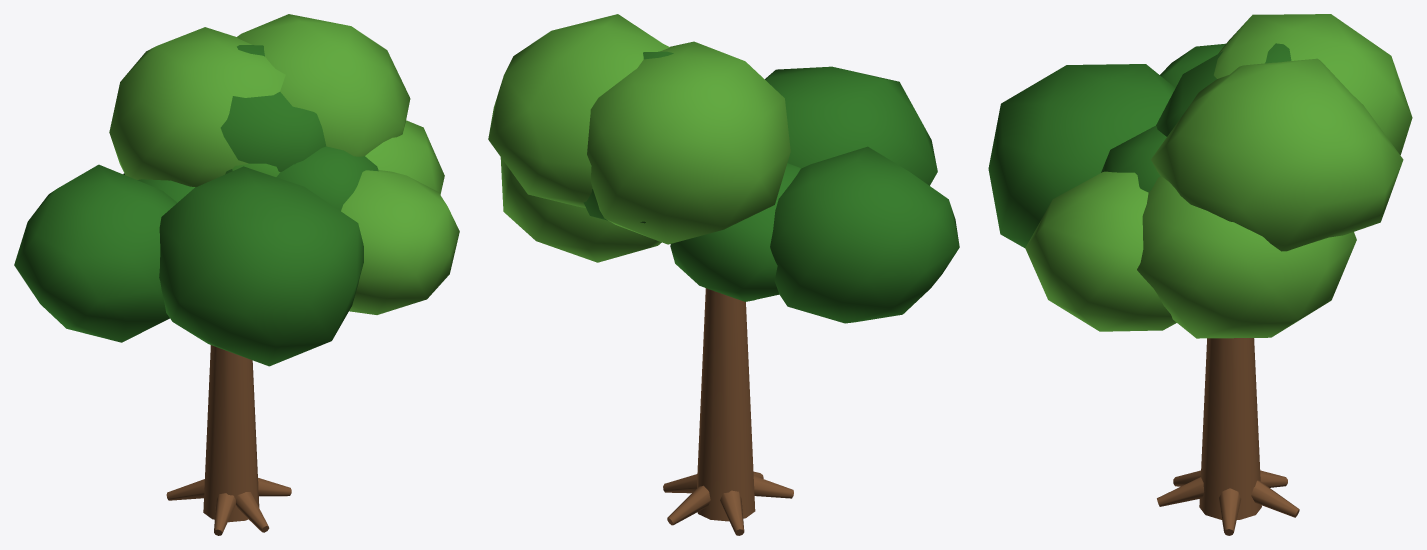
File: arvore_media.glb
The picture shows the model from 3 angles, left to right: view 1: azimuth 30°, elevation 25°; view 2: azimuth 150°, elevation 25°; view 3: azimuth 270°, elevation 25°; orthographic projection. The views are drawn at different scales.
Parts seen in each view (by area): view 1: arvore_media; view 2: arvore_media; view 3: arvore_media.
Part boxes in pixels (x1=…): arvore_media: x1=14, y1=14, x2=459, y2=535; arvore_media: x1=488, y1=14, x2=959, y2=535; arvore_media: x1=988, y1=14, x2=1412, y2=535.
Size of the model in its own units: 4.09 by 4.37 by 3.42.
